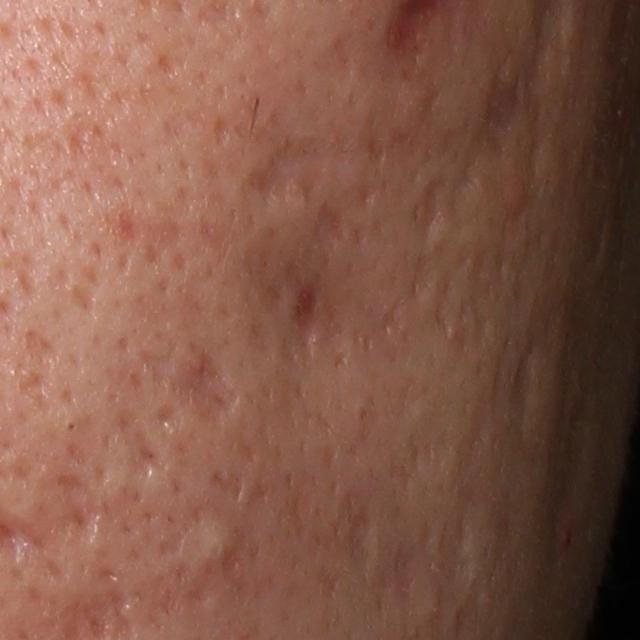atrophic_scar: (134, 334, 245, 430), (47, 471, 104, 548), (114, 404, 169, 482), (339, 491, 376, 588), (310, 204, 349, 267), (413, 180, 448, 248), (290, 282, 318, 354), (208, 466, 249, 503), (17, 367, 53, 405), (20, 328, 57, 362), (72, 282, 100, 313), (156, 404, 183, 433)
hypertrophic_scar: (183, 515, 244, 561)
